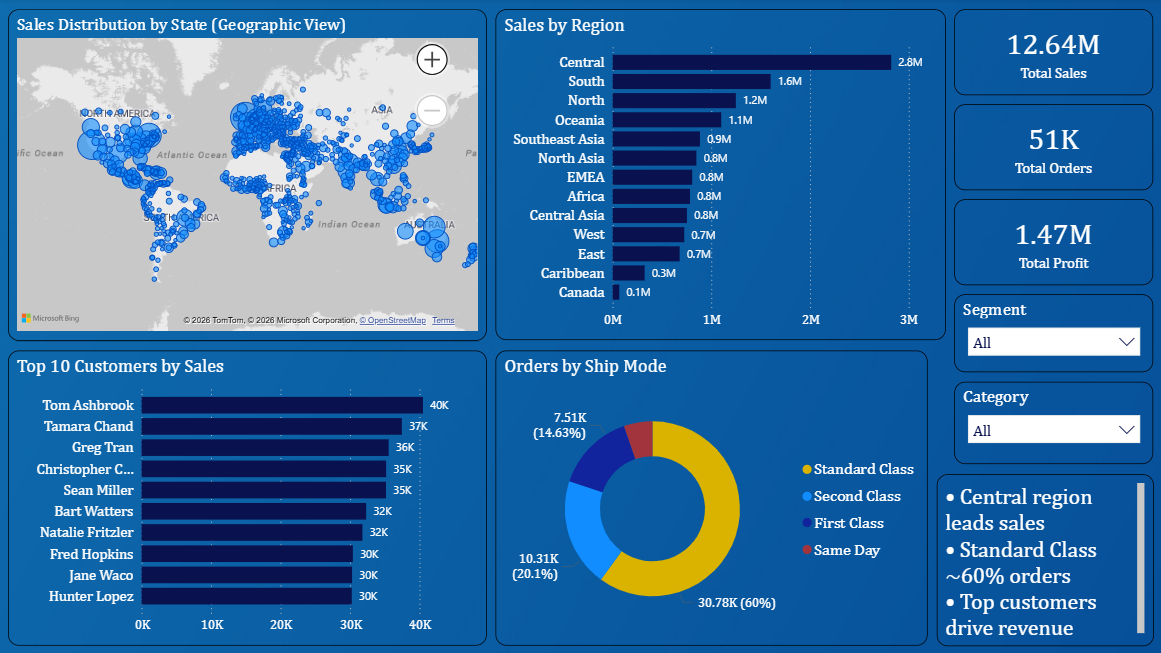

Layout of this report page (visuals, bound fields, positions):
{"tool":"powerbi","page":{"name":"Customer & Regional Insights","canvas":[1280,720],"ordinal":2},"visuals":[{"type":"map","title":"Sales Distribution by State (Geographic View)","fields":{"Size":["SuperStoreOrders.Total Sales"],"Category":["SuperStoreOrders.state"]},"box":[11,12.3,525.6,363.6],"z":0},{"type":"card","fields":{"Values":["SuperStoreOrders.Total Sales"]},"box":[1050,12.9,218.6,94.3],"z":1000},{"type":"card","fields":{"Values":["SuperStoreOrders.Total Profit"]},"box":[1050,221.4,218.6,94.3],"z":2000},{"type":"card","fields":{"Values":["SuperStoreOrders.Total Orders"]},"box":[1050,117.1,218.6,94.3],"z":3000},{"type":"clusteredBarChart","title":"Sales by Region","fields":{"Category":["SuperStoreOrders.region"],"Y":["SuperStoreOrders.Total Sales"]},"box":[545.7,12.9,494.3,362.9],"z":4000},{"type":"clusteredBarChart","title":"Top 10 Customers by Sales","fields":{"Category":["SuperStoreOrders.Customer Name"],"Y":["SuperStoreOrders.Total Sales"]},"box":[11,387,525.6,323.8],"z":5000},{"type":"donutChart","title":"Orders by Ship  Mode","fields":{"Category":["SuperStoreOrders.Ship Mode"],"Y":["CountNonNull(SuperStoreOrders.order_id)"]},"box":[545.7,387.1,474.3,324.3],"z":6000},{"type":"slicer","title":"Segment","fields":{"Values":["SuperStoreOrders.segment"]},"box":[1050,325.7,218.6,85.7],"z":7000},{"type":"slicer","title":"Category","fields":{"Values":["SuperStoreOrders.category"]},"box":[1050,421.4,218.6,90],"z":8000},{"type":"textbox","box":[1030,522.9,238.6,188.6],"z":9000}]}

Visuals, with their boxes in screenshot pixels (x1, y1, x2, y2), scaled from the page's 1280x720 canvas onto the 1161x653 screenshot:
"Sales Distribution by State (Geographic View)" map: [left=10, top=11, right=487, bottom=341]
card - SuperStoreOrders.Total Sales: [left=952, top=12, right=1151, bottom=97]
card - SuperStoreOrders.Total Profit: [left=952, top=201, right=1151, bottom=286]
card - SuperStoreOrders.Total Orders: [left=952, top=106, right=1151, bottom=192]
"Sales by Region" clusteredBarChart: [left=495, top=12, right=943, bottom=341]
"Top 10 Customers by Sales" clusteredBarChart: [left=10, top=351, right=487, bottom=645]
"Orders by Ship  Mode" donutChart: [left=495, top=351, right=925, bottom=645]
"Segment" slicer: [left=952, top=295, right=1151, bottom=373]
"Category" slicer: [left=952, top=382, right=1151, bottom=464]
textbox: [left=934, top=474, right=1151, bottom=645]
